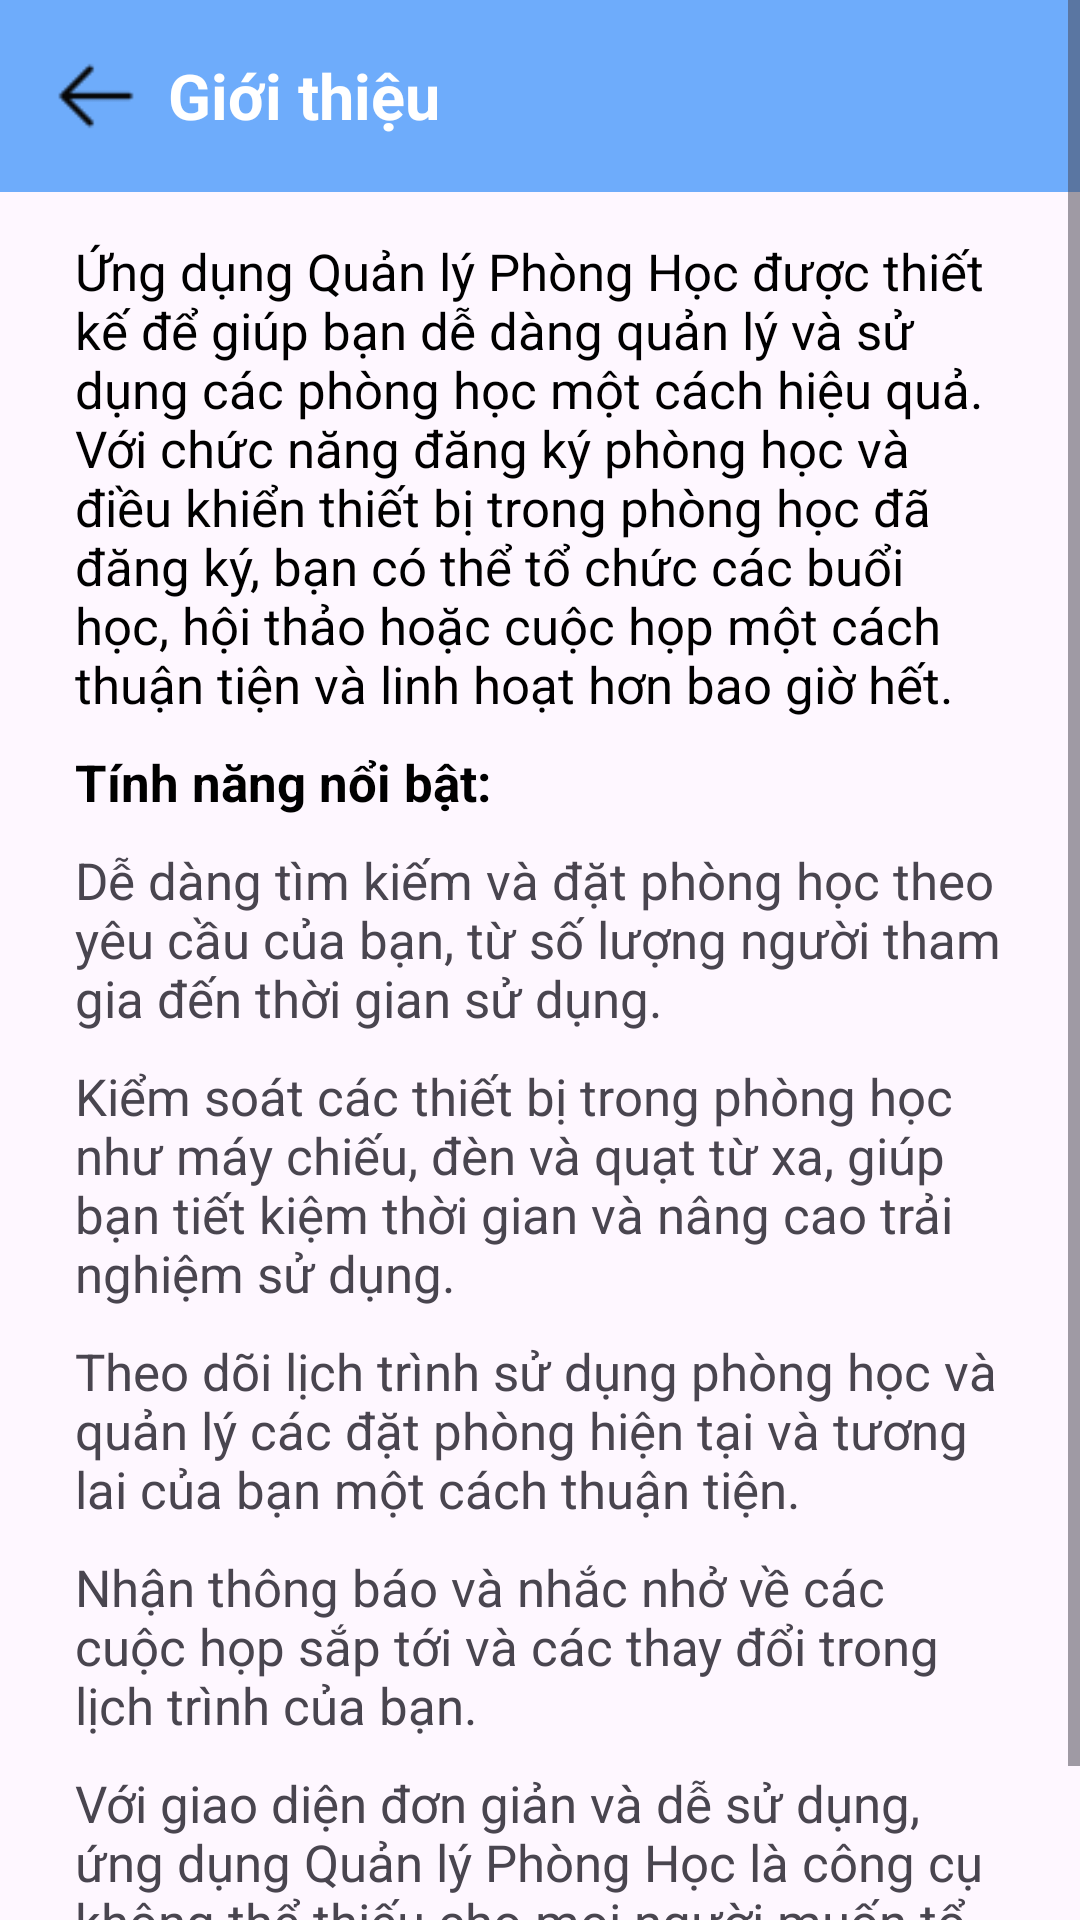

Locate icon controls on the screen. Image size 1080×1920, boxes as (x1, y1, x2, y2).
back: (58, 64, 134, 128)
